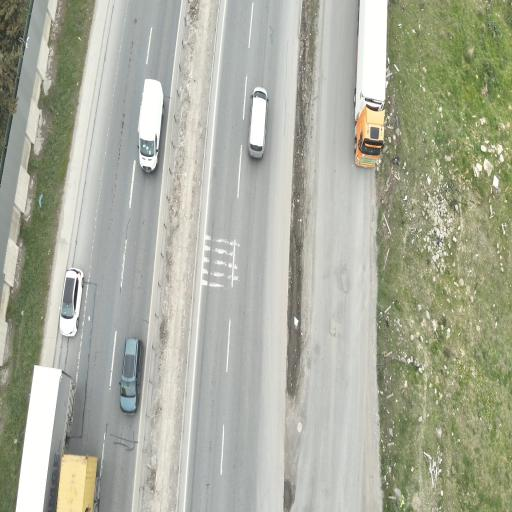car: (138, 79, 163, 171), (120, 339, 143, 413), (60, 268, 84, 336), (248, 87, 268, 158)
truck: (16, 366, 99, 511), (355, 0, 387, 167)
